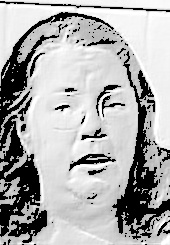nose_M_C: (78, 108, 109, 151)
